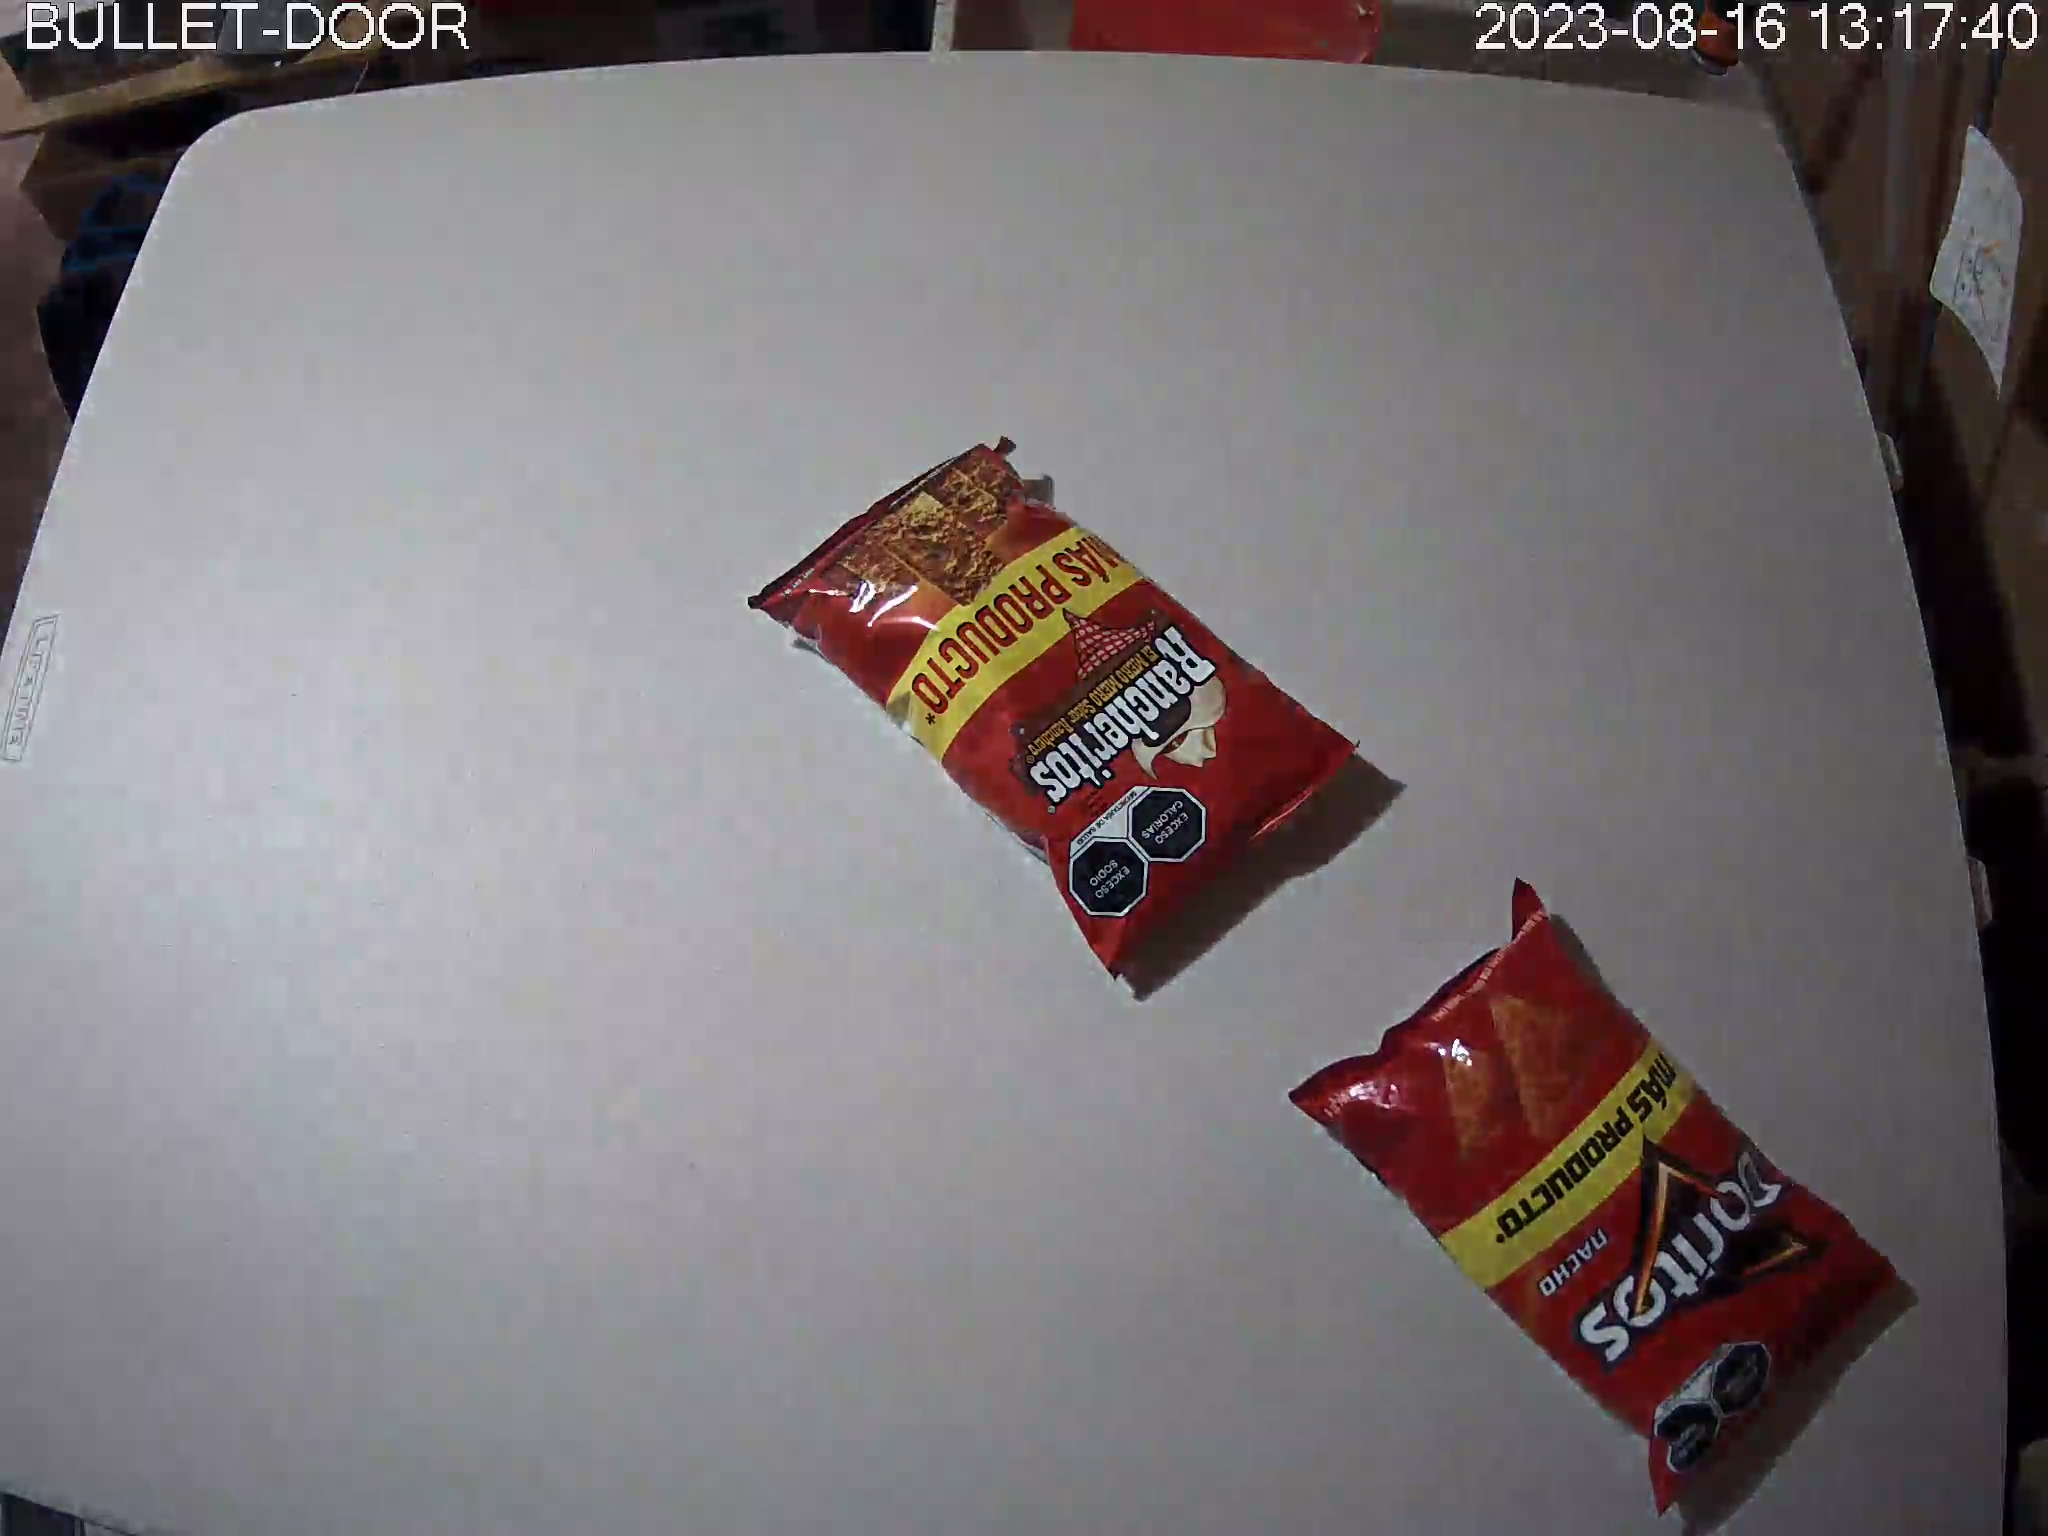DoritosN_61_F: (1288, 879, 1901, 1517)
Rancheritos_58_F: (748, 437, 1364, 984)
